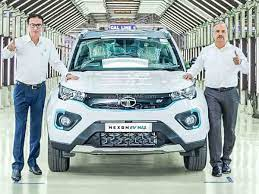Tata Nexon: (47, 21, 208, 174)
